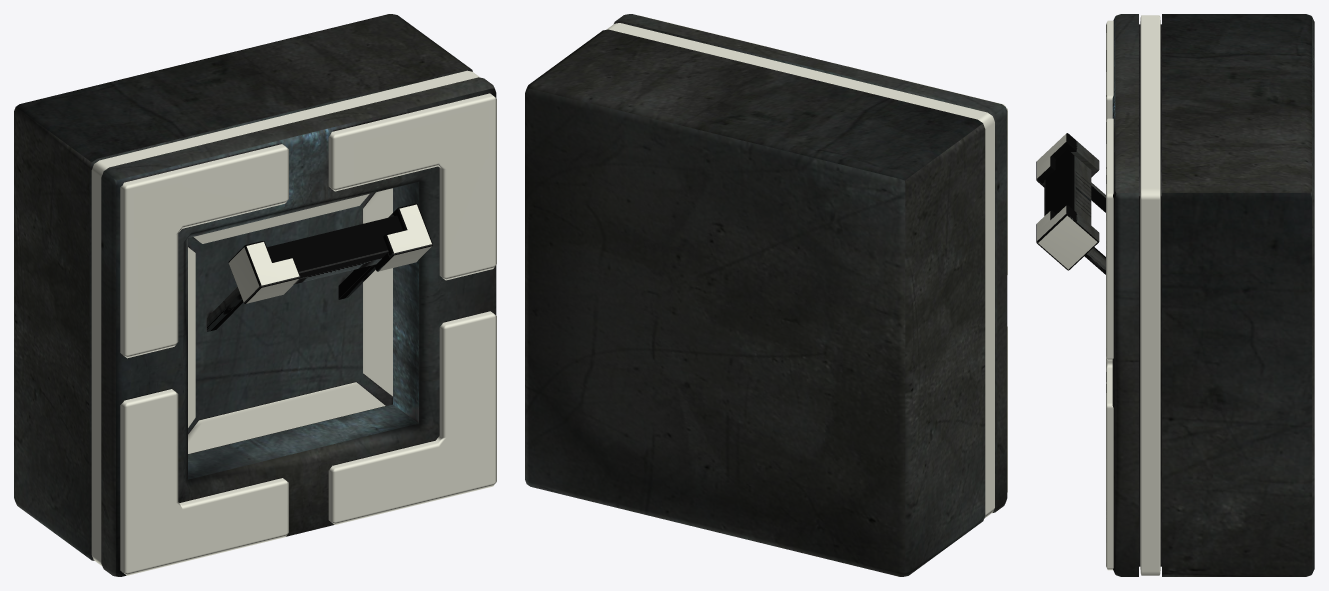
The model's file is Machine.fbx.
3 renders of one model, left to right at view 1: azimuth 30°, elevation 25°; view 2: azimuth 150°, elevation 25°; view 3: azimuth 270°, elevation 25°, orthographic. The views are drawn at different scales.
Visible parts, largest first — view 1: polySurface16, Light, Handle; view 2: polySurface16, Light; view 3: polySurface16, Light, Handle.
Boxes of the visible parts, x1,y1,x2,y2 form: polySurface16: (14,14,496,576); Light: (91,70,496,575); Handle: (207,203,432,331); polySurface16: (525,14,1007,576); Light: (606,15,1007,518); polySurface16: (1112,14,1314,576); Light: (1106,15,1160,575); Handle: (1036,133,1105,274).
Size of the model in its own units: 1.06 by 1.06 by 0.6874.
